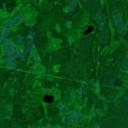alloviz: (42, 93, 55, 104), (82, 24, 95, 35)
